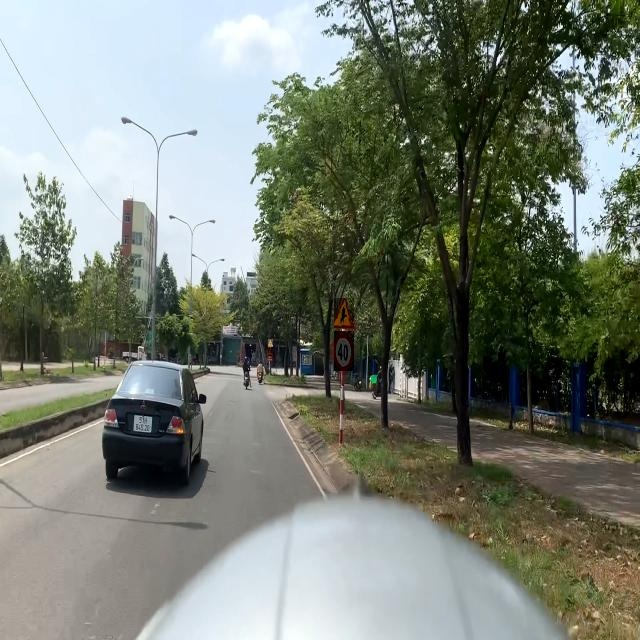bien_cam: (334, 331, 354, 371), (334, 298, 354, 328), (268, 339, 273, 347), (268, 348, 272, 356)
